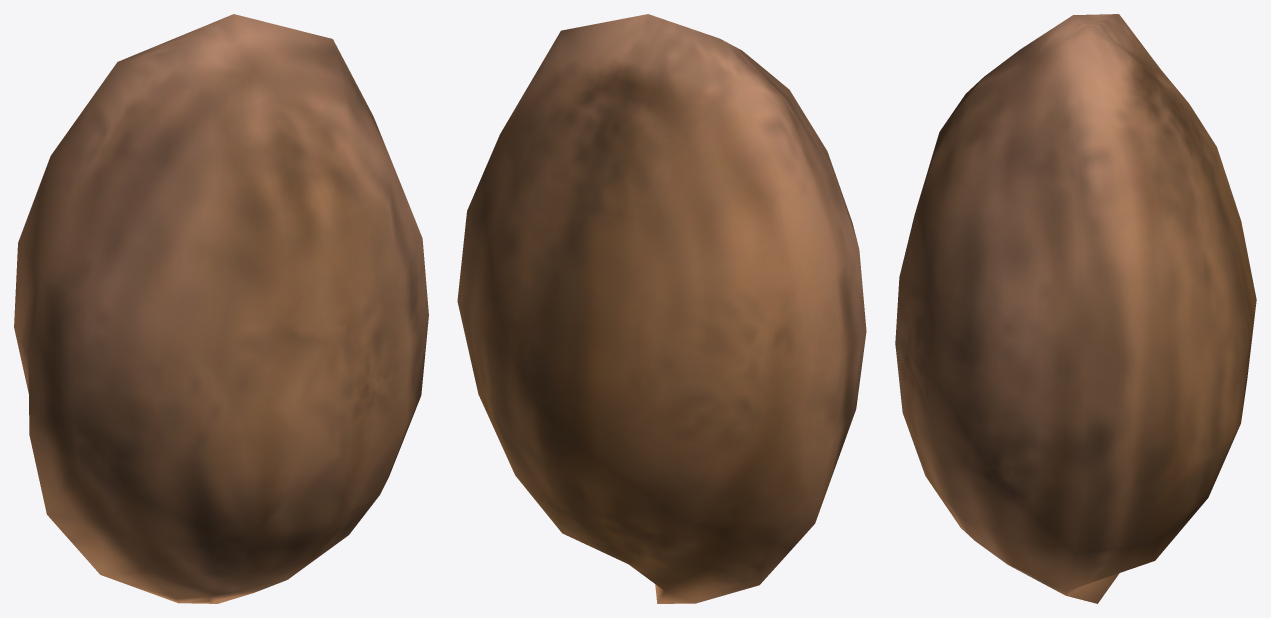
The model's file is Walnut.fbx.
The picture shows the model from 3 angles, left to right: view 1: azimuth 30°, elevation 25°; view 2: azimuth 150°, elevation 25°; view 3: azimuth 270°, elevation 25°; orthographic projection.
Parts seen in each view (by area): view 1: Walnut; view 2: Walnut; view 3: Walnut.
Boxes of the visible parts, box(x1,y1,x2,y2) form: Walnut: box(14, 14, 428, 603); Walnut: box(457, 14, 866, 603); Walnut: box(895, 14, 1256, 603).
Bounding box in the file's own units: 13.26 × 20.51 × 11.58.
1 material, 1 textured.
